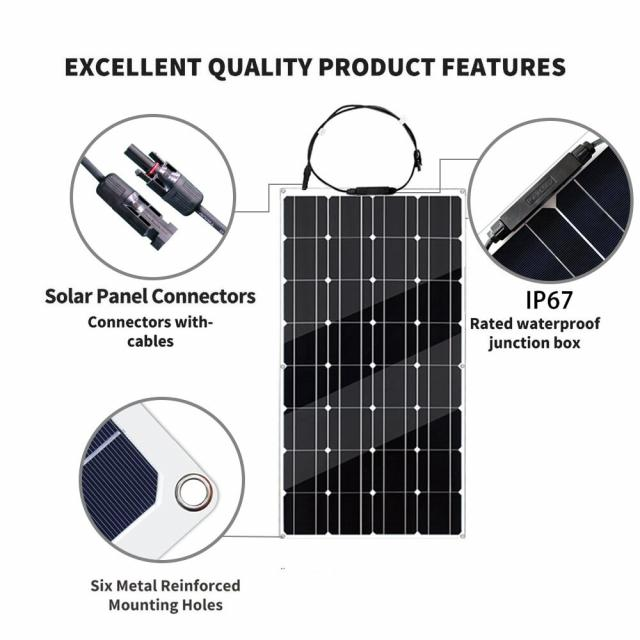no faulty: (275, 197, 461, 533)
